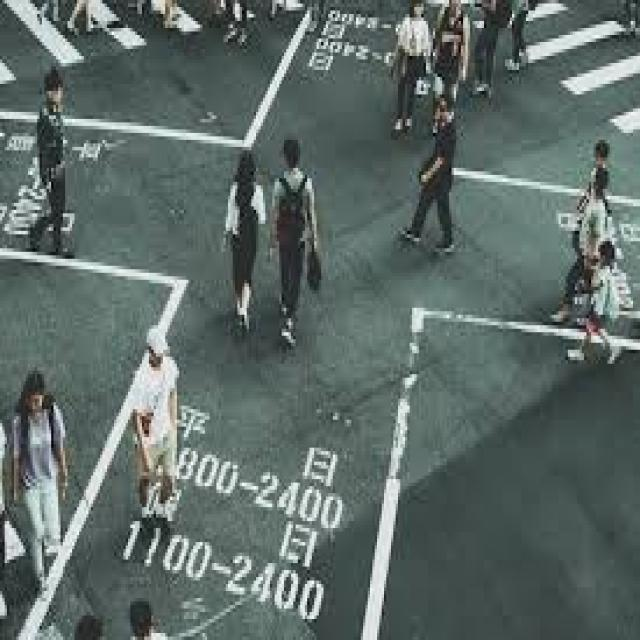Pedestrians: (9, 367, 70, 598), (270, 136, 321, 350), (400, 91, 463, 252), (28, 63, 79, 259), (558, 164, 616, 326), (138, 328, 182, 524), (225, 147, 268, 336), (566, 241, 624, 371), (389, 3, 433, 136)
